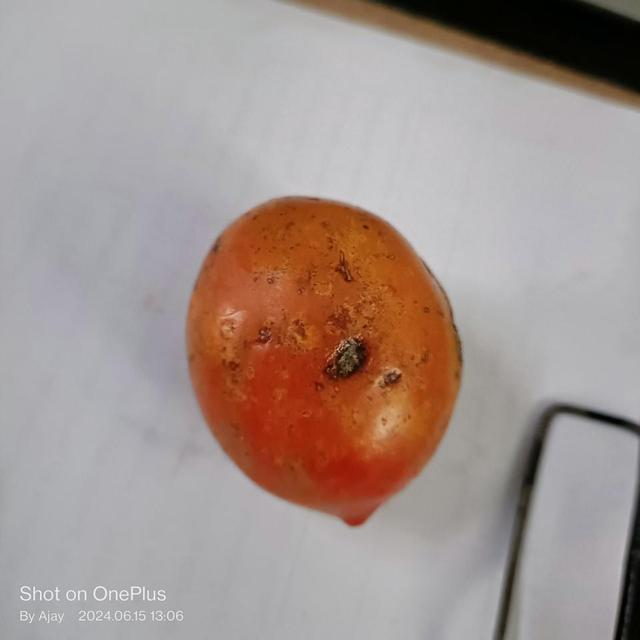Bacterial Spot Fruit: (27, 22, 260, 251)
